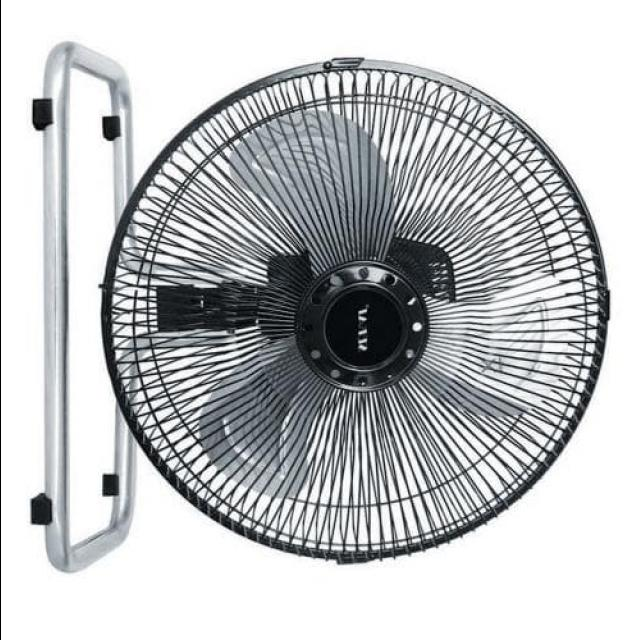fan: (24, 37, 612, 571)
